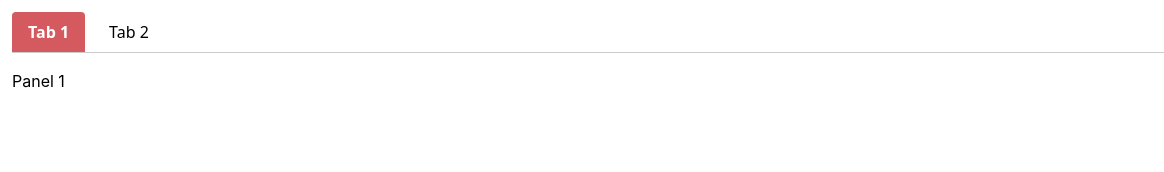
Test case: Tabs 组件 › 应该在点击标签时切换面板
Click the tab "Tab 2".
click(129, 32)  # box [93,12,165,52]
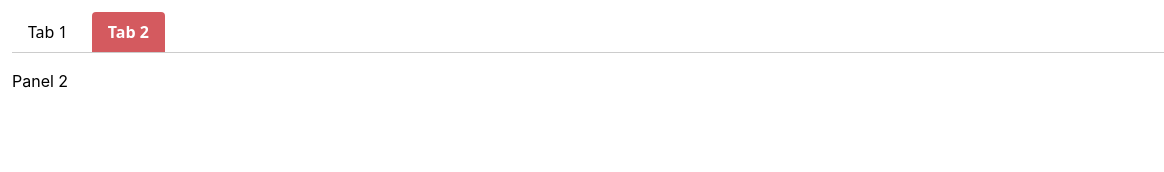
Now the text "Panel 2" is shown, box [12,71,68,91]
